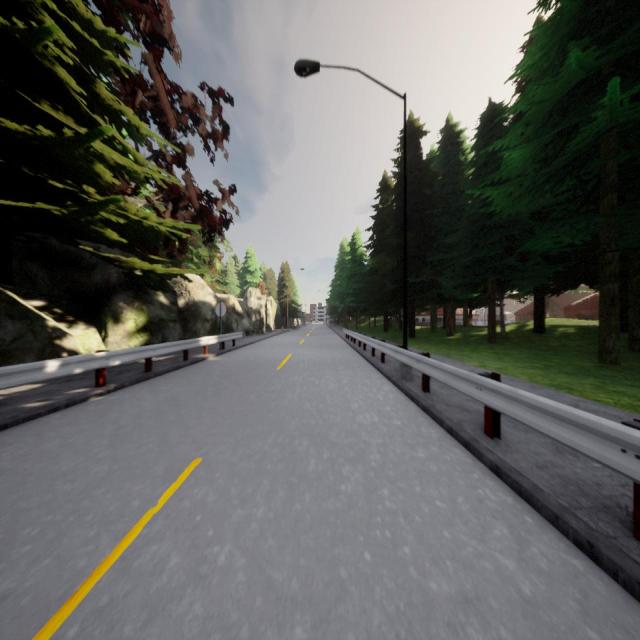Traffic_Signs: (215, 301, 226, 317)
